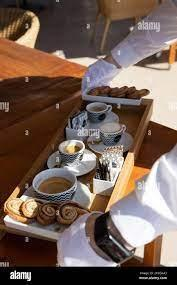apron: (46, 210, 124, 274), (80, 55, 119, 95)
